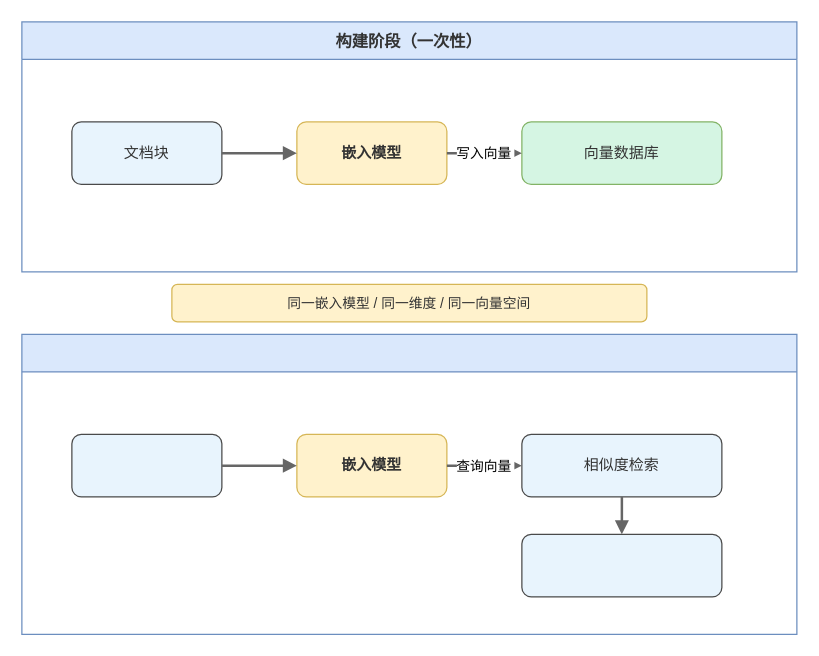
This 819x656 diagram has some shape labels left out. The box of each missing label's shape, as (x1, y1, x2, y2) in pixels:
Top-K 文档块: (521, 533, 722, 597)
查询阶段（每次提问）: (21, 333, 797, 634)
用户问题: (71, 433, 222, 497)
